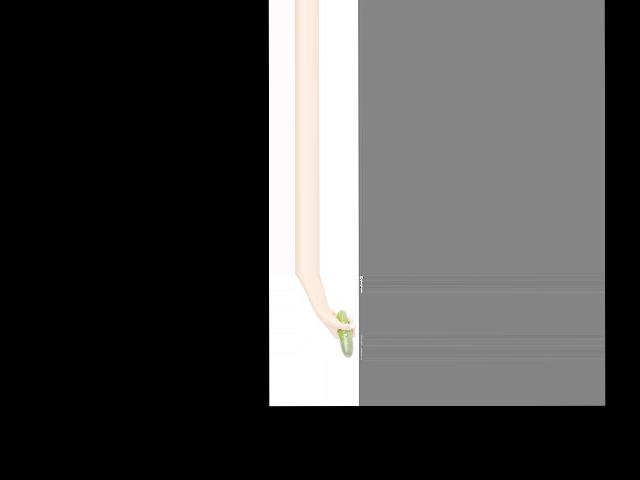cucumber: (337, 310, 353, 358)
